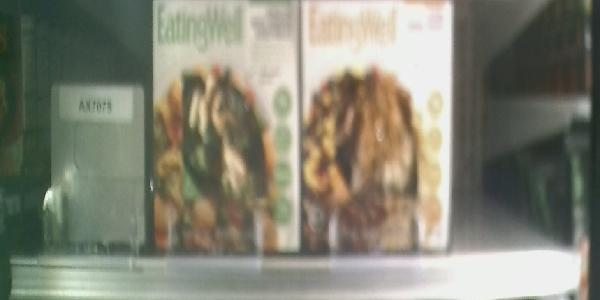pizza1: (301, 2, 449, 253), (152, 1, 295, 246)
